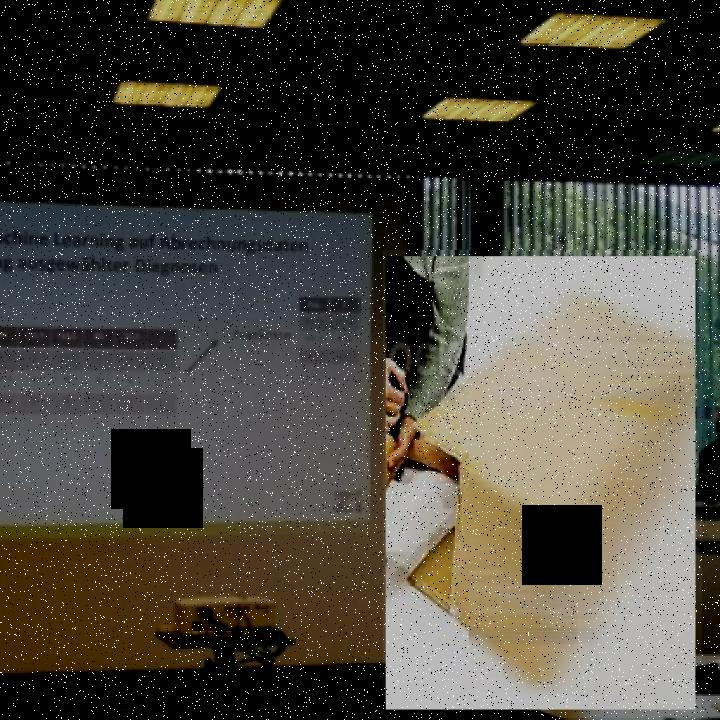box: (384, 250, 704, 718)
